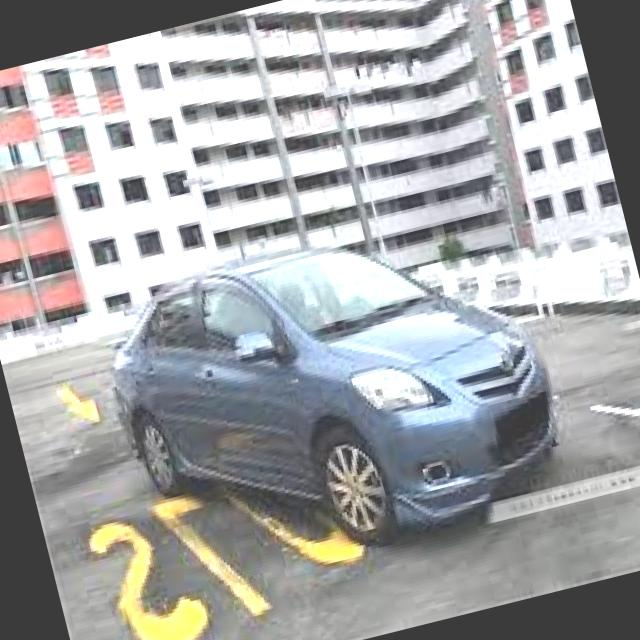ToyotaVios: (88, 191, 581, 599)
